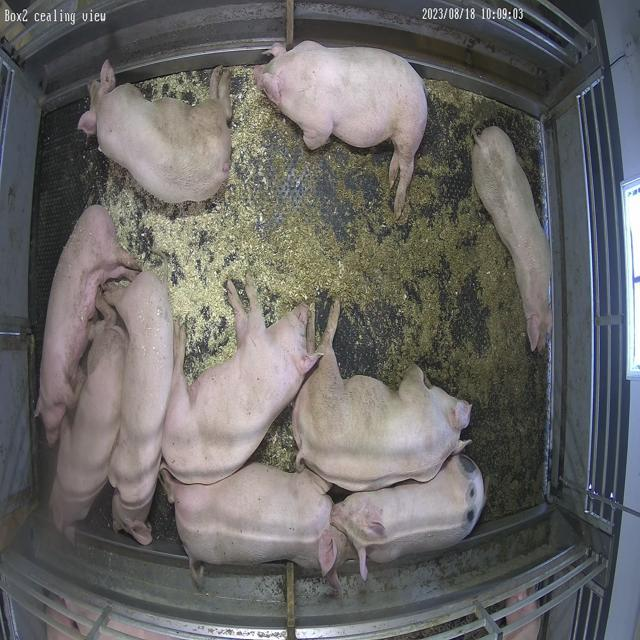Dirt: (248, 81, 547, 520)
Pig: (293, 301, 472, 492), (162, 276, 321, 485), (255, 40, 428, 218), (35, 205, 139, 446), (78, 60, 232, 202), (332, 455, 486, 580), (104, 272, 173, 546), (163, 464, 338, 570), (49, 295, 127, 530), (474, 126, 553, 352)
